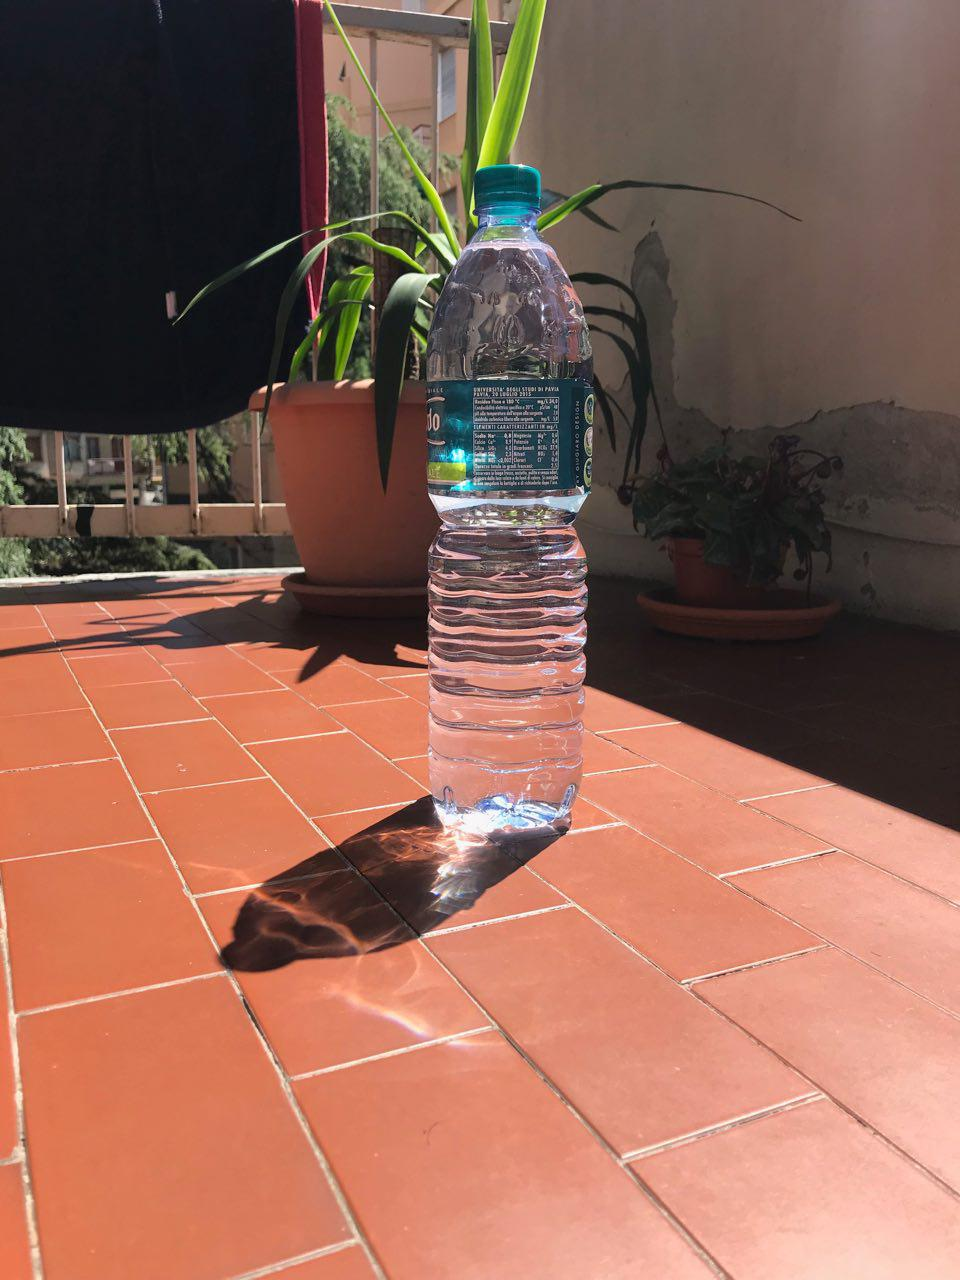san_bernardo: (425, 163, 595, 833)
